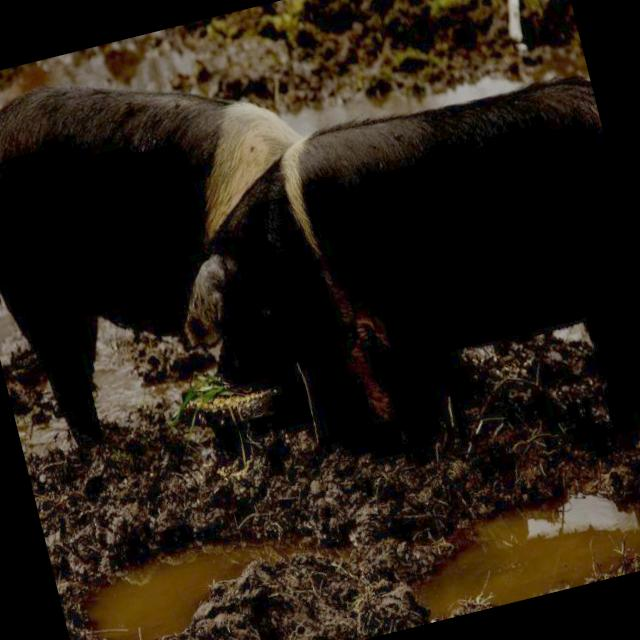pig: (189, 77, 640, 422), (0, 87, 300, 443)
